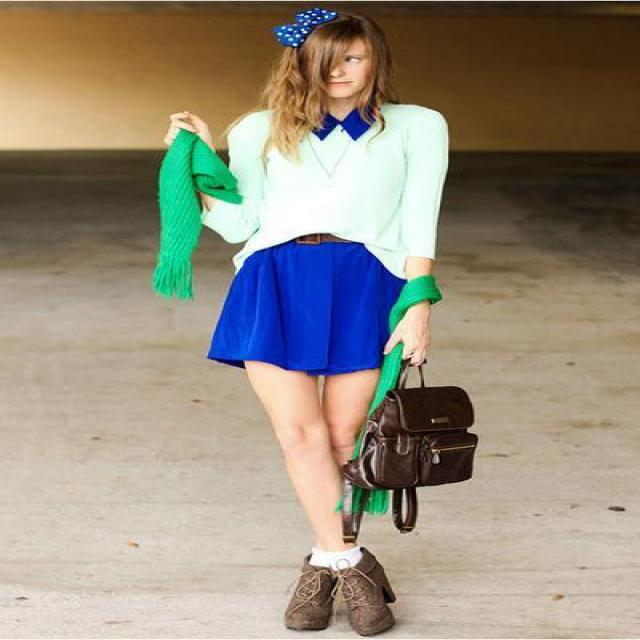bag: (362, 371, 476, 532)
jacket: (202, 105, 446, 282)
shoe: (288, 518, 395, 639)
skirt: (211, 234, 402, 376)
